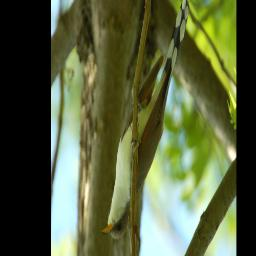Cuckoo: (101, 0, 189, 239)
